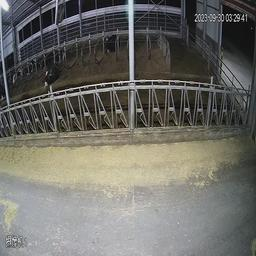cow: (40, 57, 63, 90), (100, 30, 121, 54), (27, 52, 41, 76), (12, 65, 27, 87)
